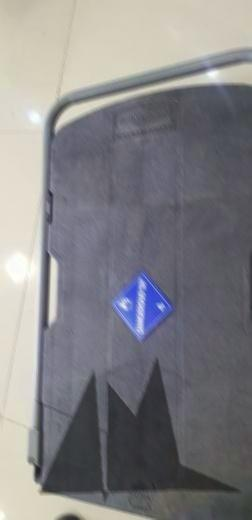dangerous-when-wet: (110, 274, 174, 342)
